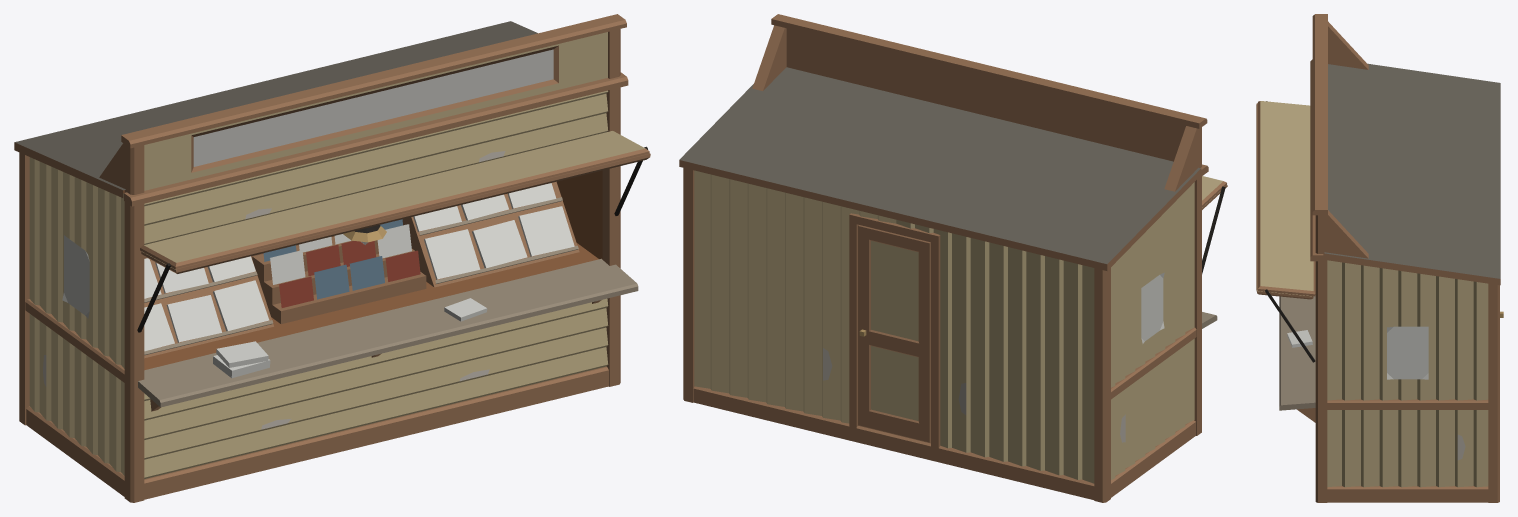
The model's file is platform-bookstall-8598bf.glb.
3 views of the same model, side by side, from view 1: azimuth 30°, elevation 25°; view 2: azimuth 150°, elevation 25°; view 3: azimuth 270°, elevation 25° (orthographic). The views are drawn at different scales.
Visible parts, largest first — view 1: stall, shutter-mesh, paper-stack-mesh, shutter-fold-mesh; view 2: stall, door-mesh; view 3: stall, shutter-mesh, stay-r-mesh, paper-stack-mesh.
Part boxes in pixels (x1,y1,x2,y2): stall: (14,14,638,502); shutter-mesh: (140,131,650,271); paper-stack-mesh: (213,298,487,378); shutter-fold-mesh: (141,156,650,273); stall: (679,14,1217,502); door-mesh: (858,224,930,443); stall: (1279,14,1500,502); shutter-mesh: (1256,101,1315,296); stay-r-mesh: (1265,289,1315,362); paper-stack-mesh: (1287,330,1312,347).
Size of the model in its own units: 4 by 2.8 by 2.13.
